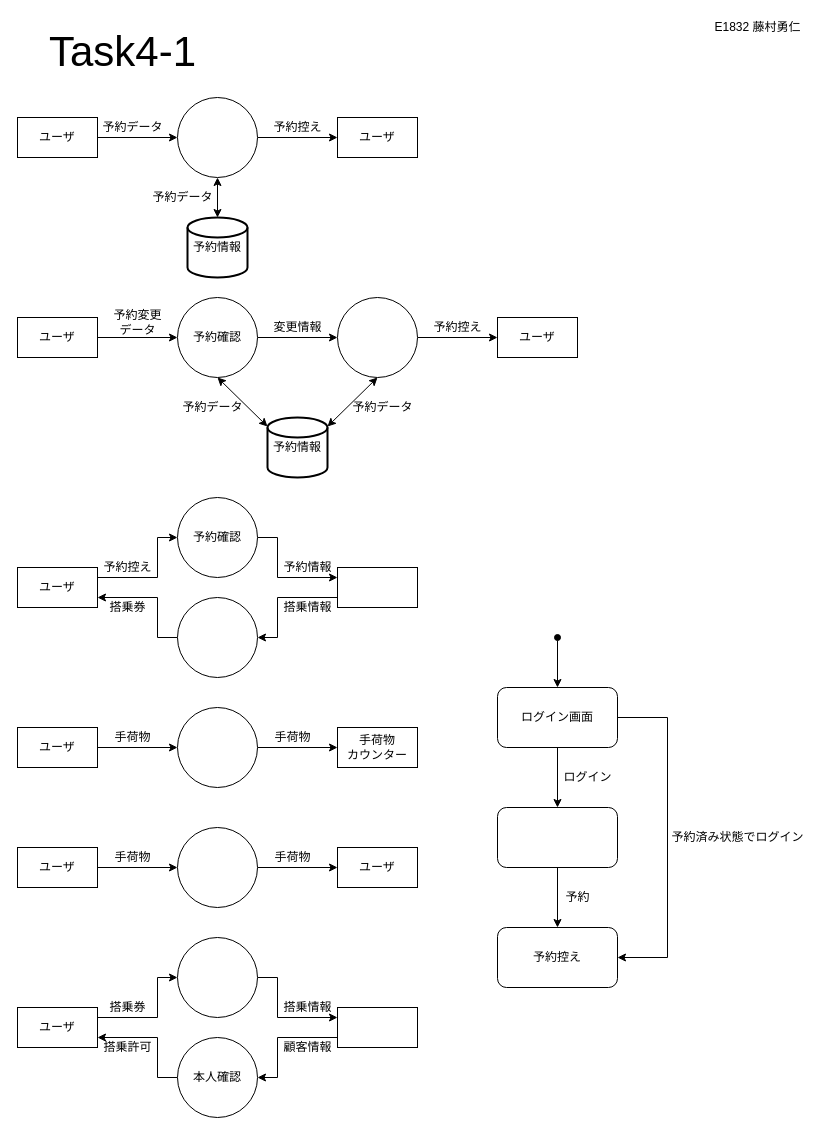
Image size: 825x1135. Some labels were removed from this diagram. Here are the shapes that lost their labels. From the top down, the centre of each, then its label:
the point at 217,137: 情報入力
the point at 377,337: 予約情報更新
the point at 377,587: チェックイン カウンター
the point at 217,637: 搭乗券発行
the point at 217,747: 重量測定
the point at 557,837: 入力画面
the point at 217,867: 検査
the point at 217,977: 搭乗手続き
the point at 377,1027: 搭乗ゲート
